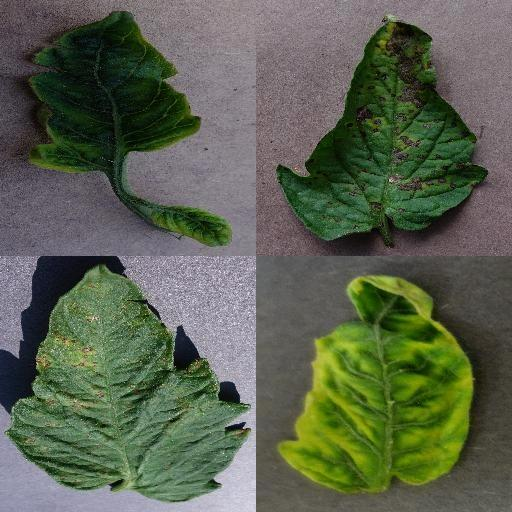Early Blight: (280, 15, 488, 241)
Septoria: (8, 264, 250, 502)
Yellow Leaf Curl Virus: (278, 274, 475, 496), (22, 10, 200, 174), (142, 202, 232, 248)
